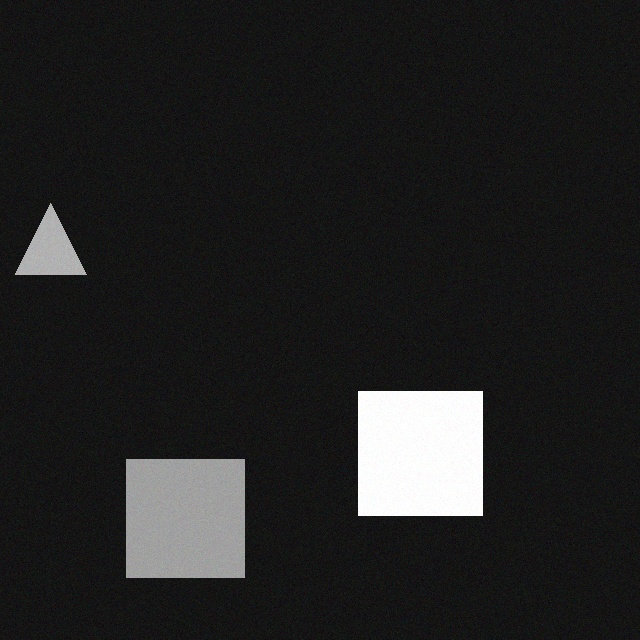square: (355, 403, 479, 527), (123, 471, 241, 589)
triangle: (12, 215, 83, 286)
